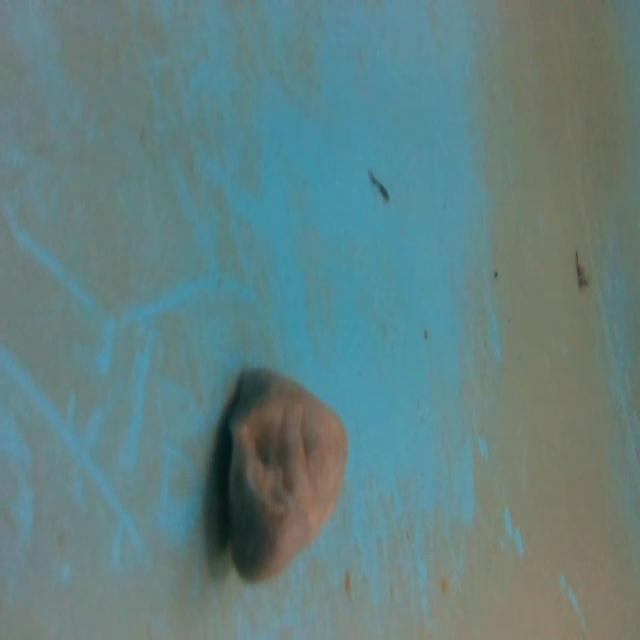rock: (218, 358, 358, 596)
